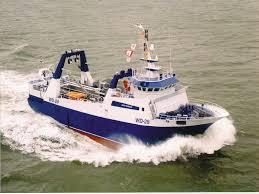Ship: (29, 33, 224, 147)
